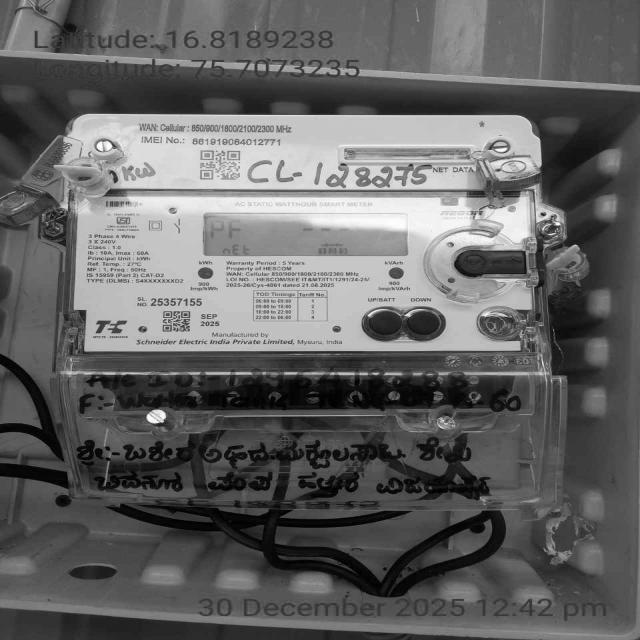meter: (69, 115, 544, 354)
